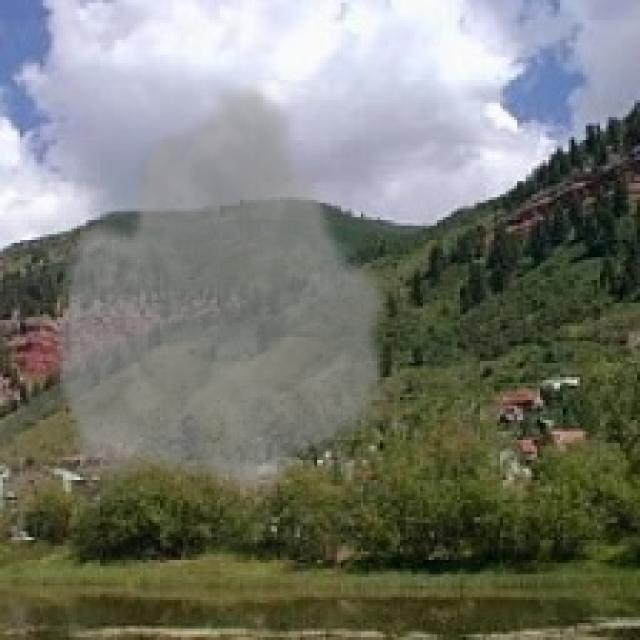smoke: (49, 72, 397, 497)
